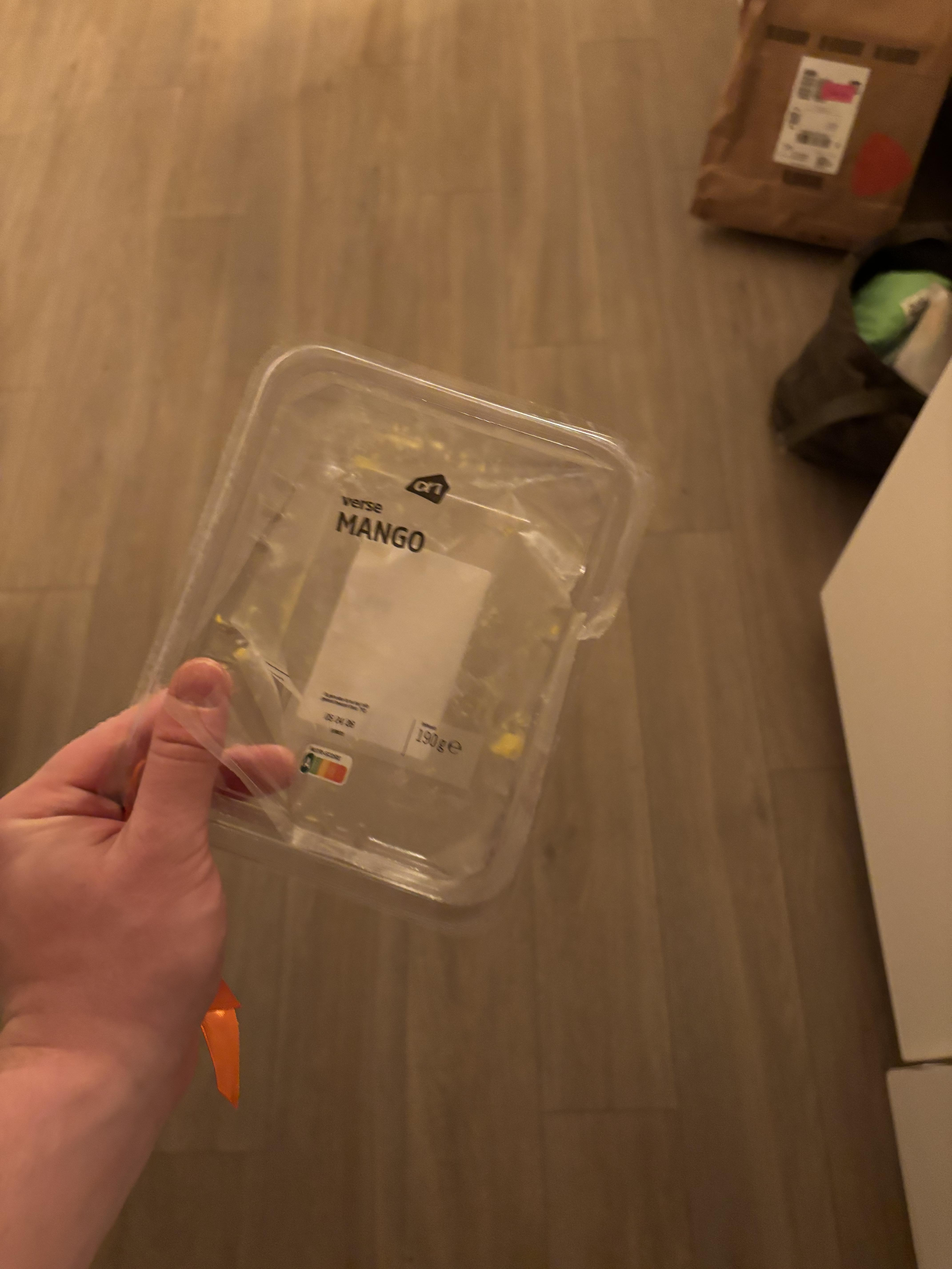Plastic: (122, 329, 684, 928)
